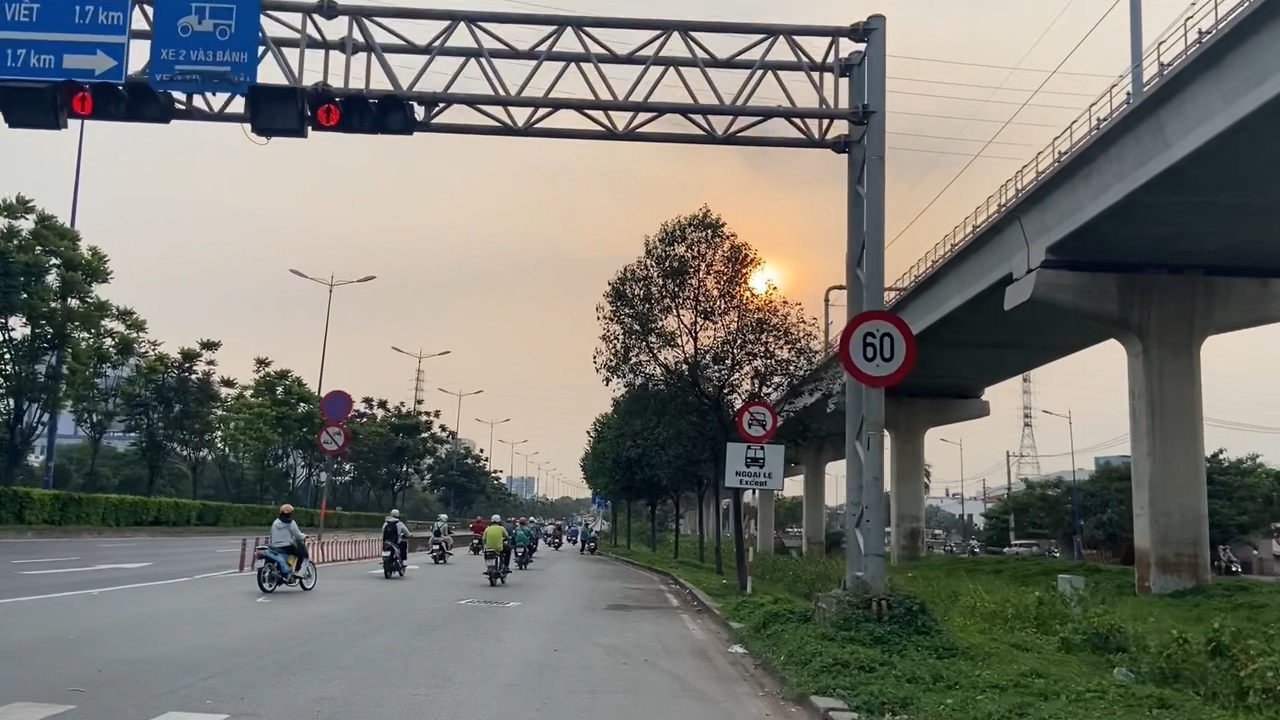gioi_han_60km: (838, 309, 917, 391)
